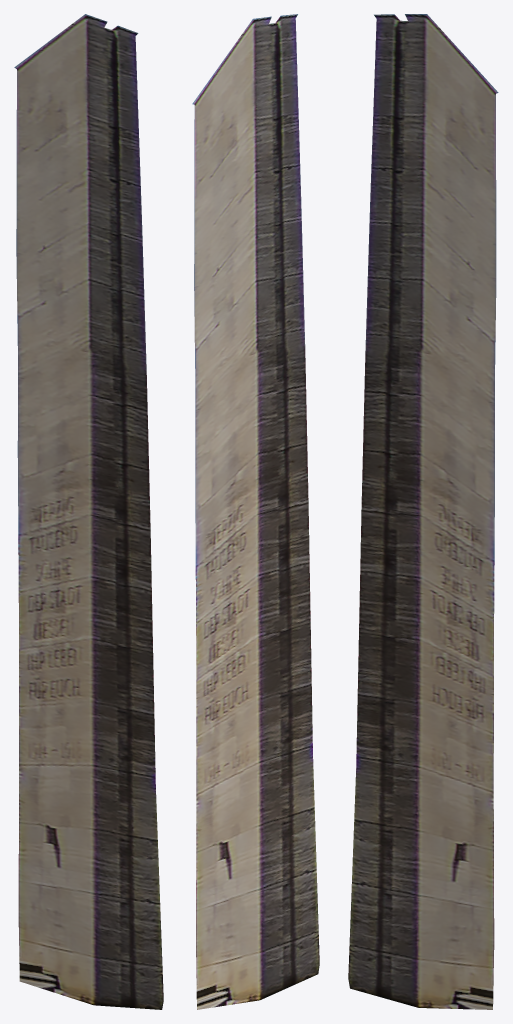
File: Monument_GER02_KleineAlster.fbx
3 views of the same model, side by side, from view 1: azimuth 90°, elevation 25°; view 2: azimuth 150°, elevation 25°; view 3: azimuth 270°, elevation 25° (orthographic).
Parts seen in each view (by area): view 1: monument; view 2: monument; view 3: monument.
Part boxes in pixels (x1=…): monument: x1=14, y1=14, x2=163, y2=1009; monument: x1=192, y1=14, x2=319, y2=1009; monument: x1=348, y1=14, x2=498, y2=1009.
Size of the model in its own units: 210 by 3715 by 509.
